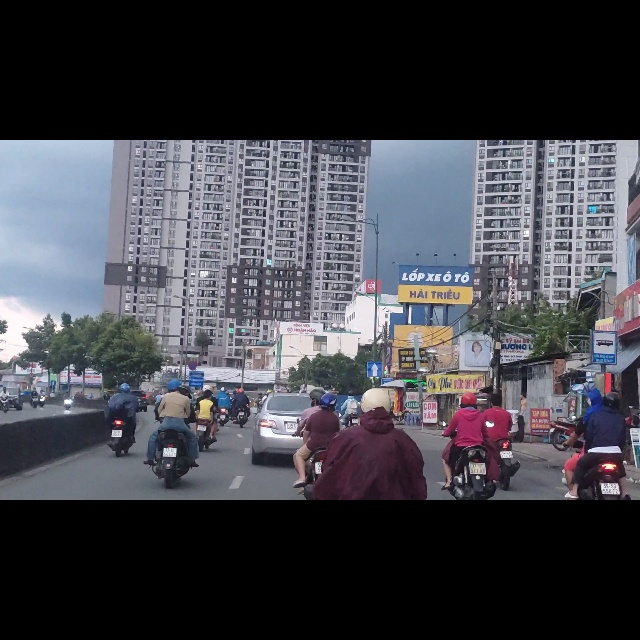bien_chi_dan: (591, 339, 618, 399), (367, 393, 383, 422), (188, 393, 197, 409)
